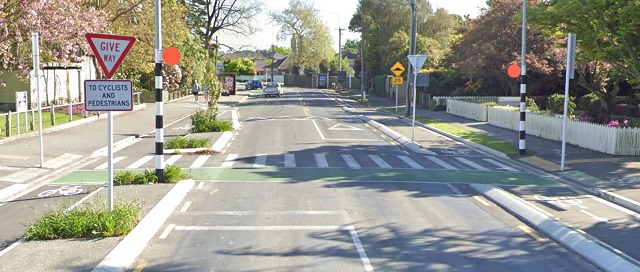car: (264, 81, 284, 96)
pedestrian lane: (103, 155, 517, 173)
pole: (557, 32, 571, 172), (32, 32, 44, 168), (154, 1, 163, 179), (518, 5, 525, 153), (106, 110, 113, 210)
